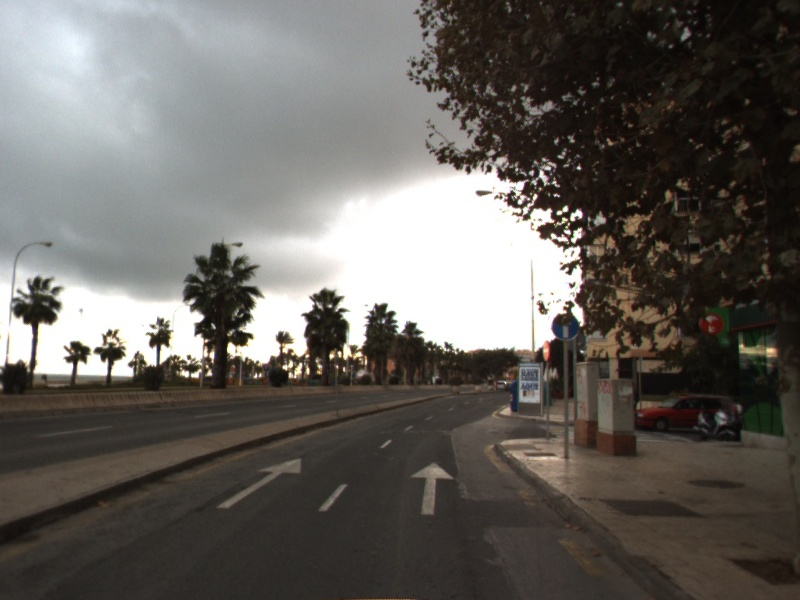STRAIGHT: (214, 456, 303, 510), (409, 460, 455, 517)
